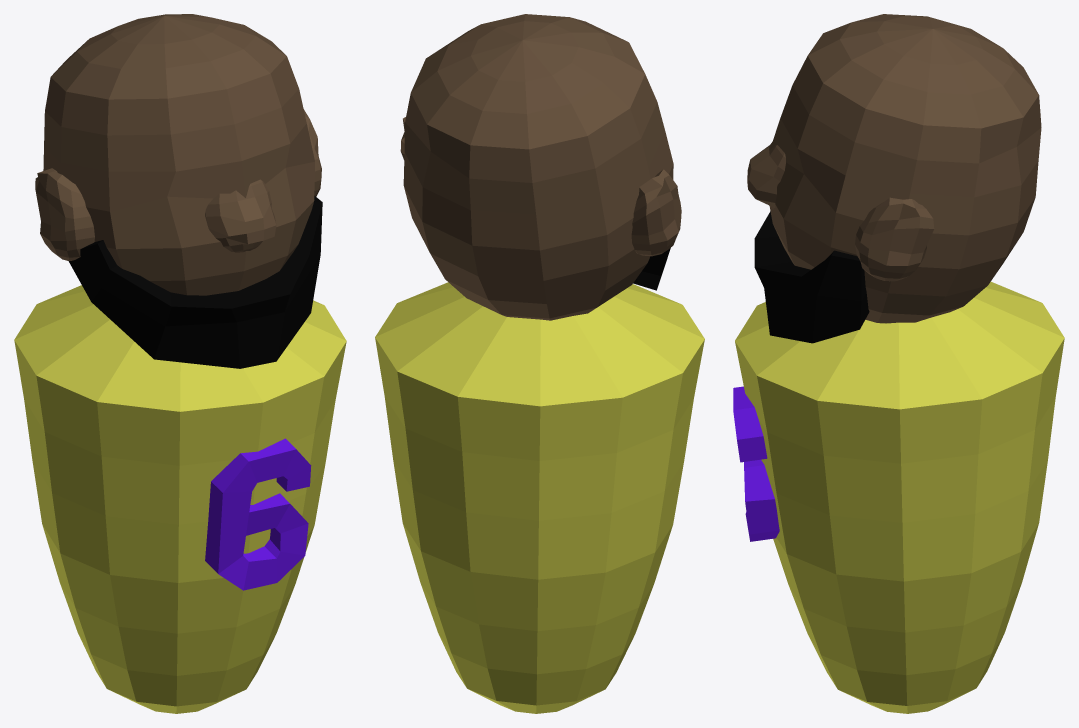
Rendered from lebron.fbx.
3 views of the same model, side by side, from view 1: azimuth 30°, elevation 25°; view 2: azimuth 150°, elevation 25°; view 3: azimuth 270°, elevation 25° (orthographic).
Visible parts, largest first — view 1: body, head, Cube.001, Cube, ear.002, nose.001, ear.003; view 2: body, head, ear.002, Cube.001; view 3: body, head, Cube.001, ear.003, Cube, nose.001.
Part boxes in pixels (x1=…): body: x1=14, y1=285, x2=346, y2=713; head: x1=43, y1=14, x2=314, y2=295; Cube.001: x1=68, y1=195, x2=322, y2=368; Cube: x1=205, y1=438, x2=311, y2=590; ear.002: x1=35, y1=168, x2=94, y2=260; nose.001: x1=205, y1=179, x2=276, y2=252; ear.003: x1=303, y1=109, x2=321, y2=196; body: x1=375, y1=282, x2=704, y2=713; head: x1=403, y1=14, x2=673, y2=320; ear.002: x1=631, y1=169, x2=681, y2=256; Cube.001: x1=633, y1=248, x2=670, y2=290; body: x1=735, y1=281, x2=1064, y2=713; head: x1=770, y1=14, x2=1041, y2=323; Cube.001: x1=754, y1=211, x2=869, y2=343; ear.003: x1=855, y1=197, x2=934, y2=281; Cube: x1=733, y1=386, x2=779, y2=541; nose.001: x1=747, y1=142, x2=785, y2=209.
Bounding box in the file's own units: 374 × 835 × 374.
